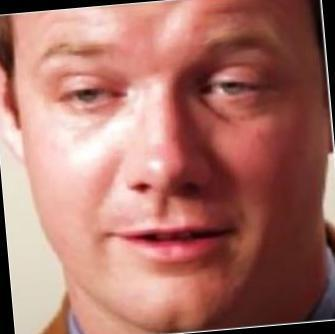Drunk: (28, 12, 305, 325)
